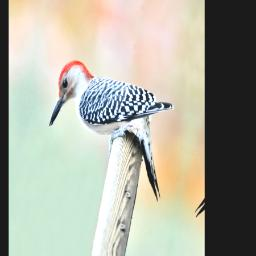Woodpecker: (38, 42, 188, 214)
